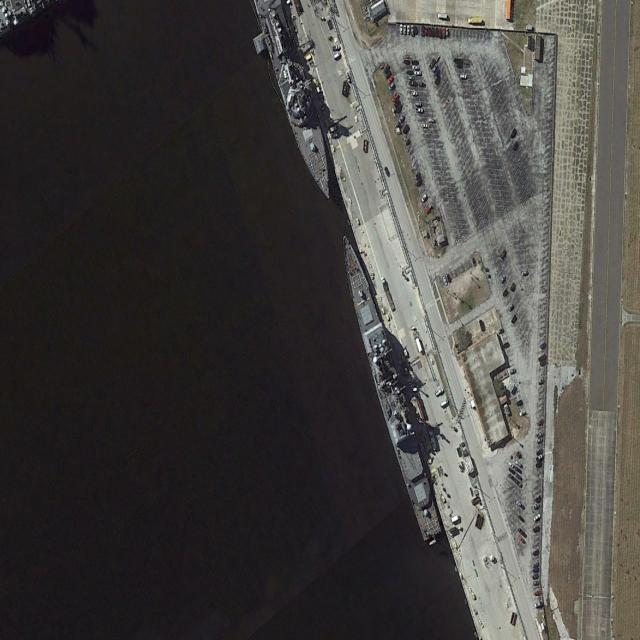Cruiser: (332, 228, 445, 543)
Destroyer: (256, 1, 340, 208)
